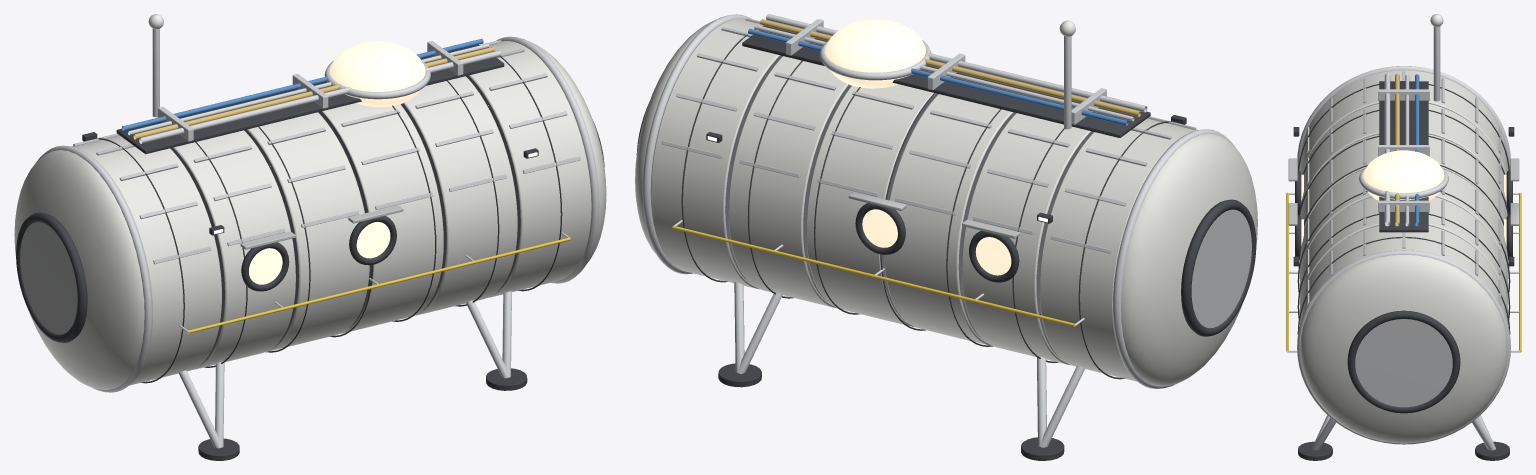
File: lab_module.glb
3 views of the same model, side by side, from view 1: azimuth 30°, elevation 25°; view 2: azimuth 150°, elevation 25°; view 3: azimuth 270°, elevation 25° (orthographic). The views are drawn at different scales.
Size of the model in its own units: 9.38 by 6.52 by 4.29.
